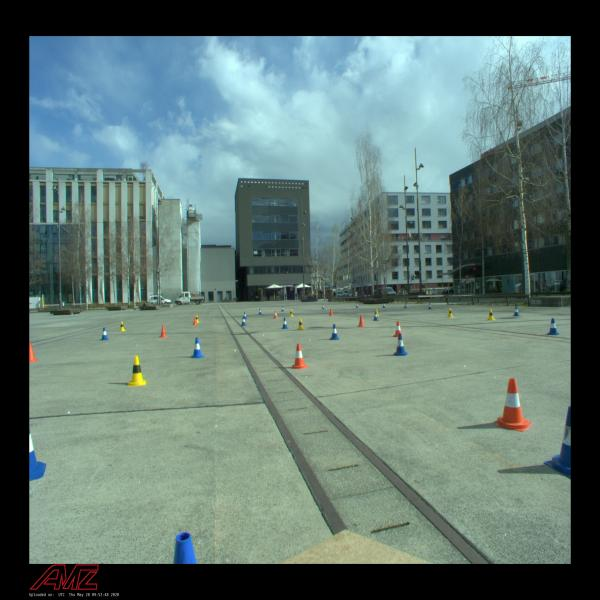blue_cone: (544, 406, 570, 480), (393, 333, 408, 357), (190, 338, 204, 358), (546, 318, 560, 336), (329, 324, 340, 340), (100, 327, 110, 341), (512, 306, 520, 316), (282, 317, 288, 329), (373, 311, 379, 321), (240, 317, 246, 326), (242, 312, 247, 319), (258, 308, 262, 314), (428, 303, 432, 309), (321, 305, 325, 310), (281, 306, 284, 312), (404, 302, 407, 308), (383, 303, 386, 308), (356, 303, 358, 308)
orange_cone: (494, 378, 532, 432), (290, 344, 309, 369), (30, 342, 40, 363), (392, 321, 404, 338), (160, 324, 167, 338), (358, 315, 365, 327), (193, 316, 198, 325), (273, 311, 278, 319), (329, 309, 333, 316)
yellow_cone: (128, 355, 146, 387), (297, 318, 305, 330), (487, 309, 495, 320), (446, 308, 454, 318), (119, 321, 126, 331), (374, 308, 379, 317), (289, 309, 294, 317), (195, 315, 199, 323)
